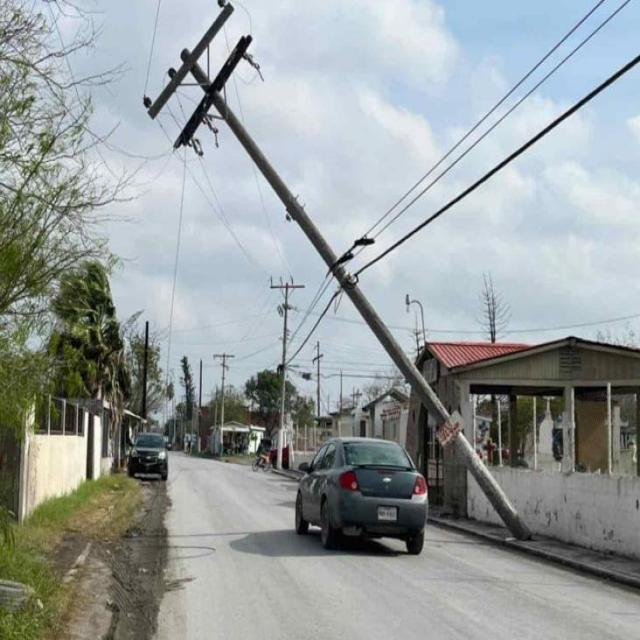light_pole: (141, 0, 533, 540), (268, 274, 306, 470), (213, 350, 233, 456), (402, 294, 427, 340), (312, 342, 325, 416), (199, 358, 204, 406)
